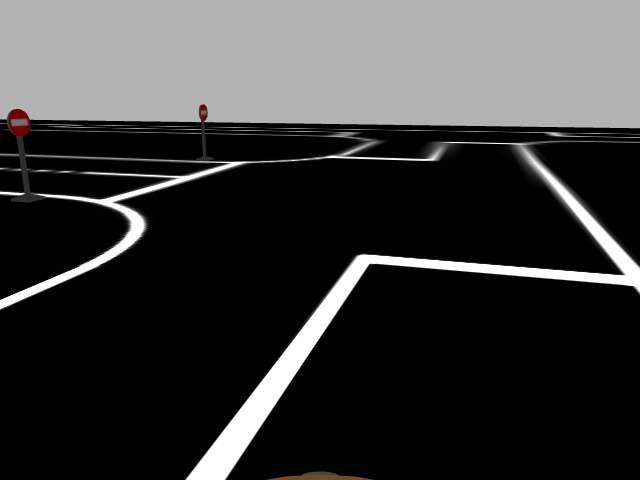prohibited: (6, 107, 31, 138), (198, 102, 208, 122)
